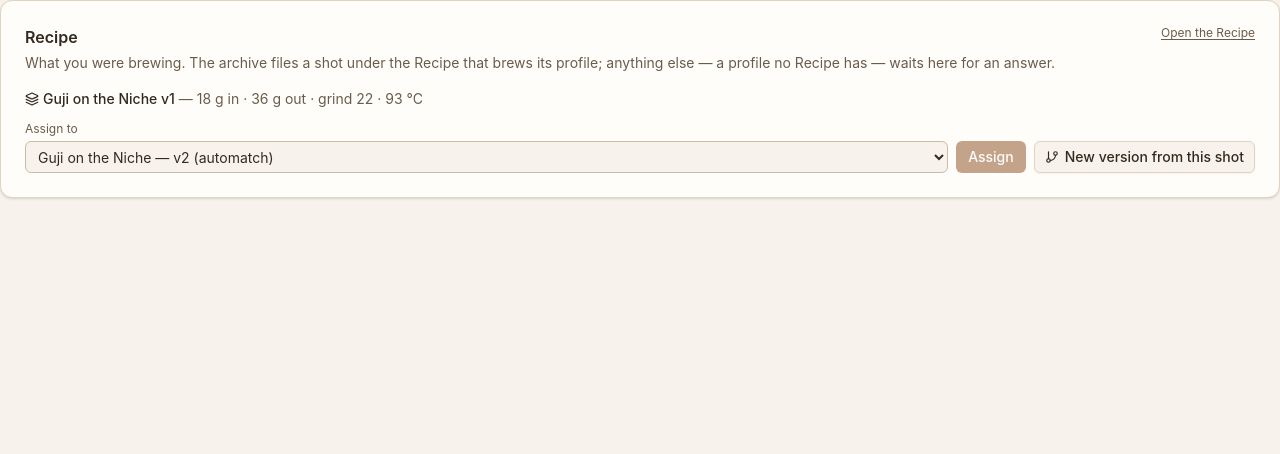
Test: AssignToRecipe › says what will happen when the judgement records no recipe at all
Click the button "New version from this shot": click(1144, 157) [1034,141,1255,173]
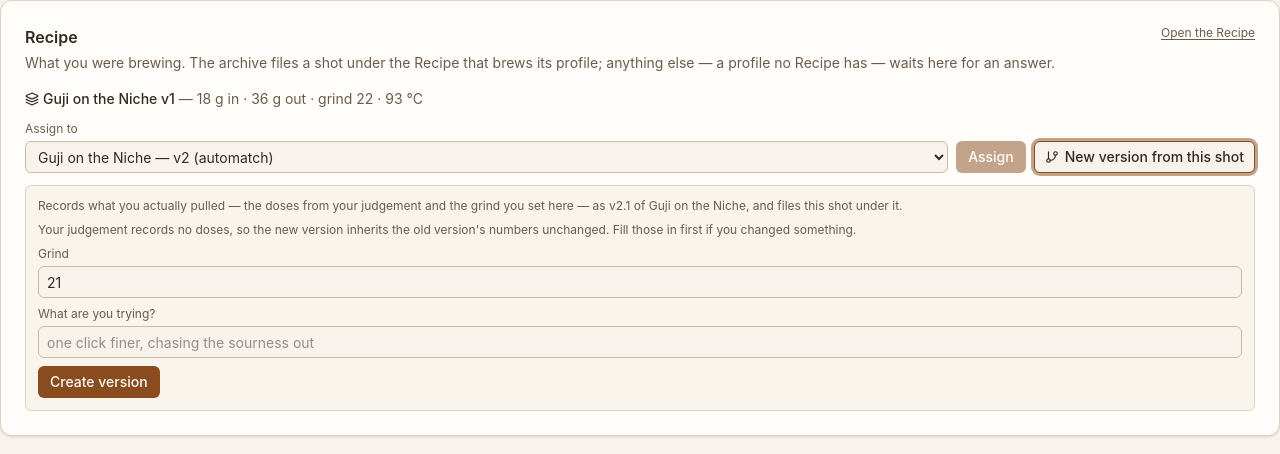
Result: the element with test id "branch-copied" shows "inherits the old version's numbers unchanged" at [38,222,856,237]
